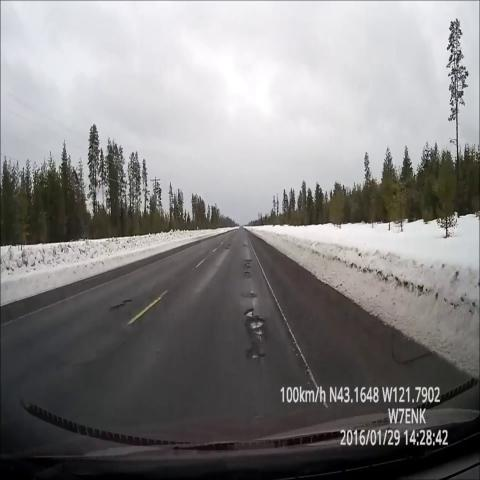pothole: (241, 300, 278, 372), (106, 292, 130, 328), (239, 253, 259, 282), (239, 287, 261, 310), (222, 235, 236, 257), (240, 234, 250, 252)
